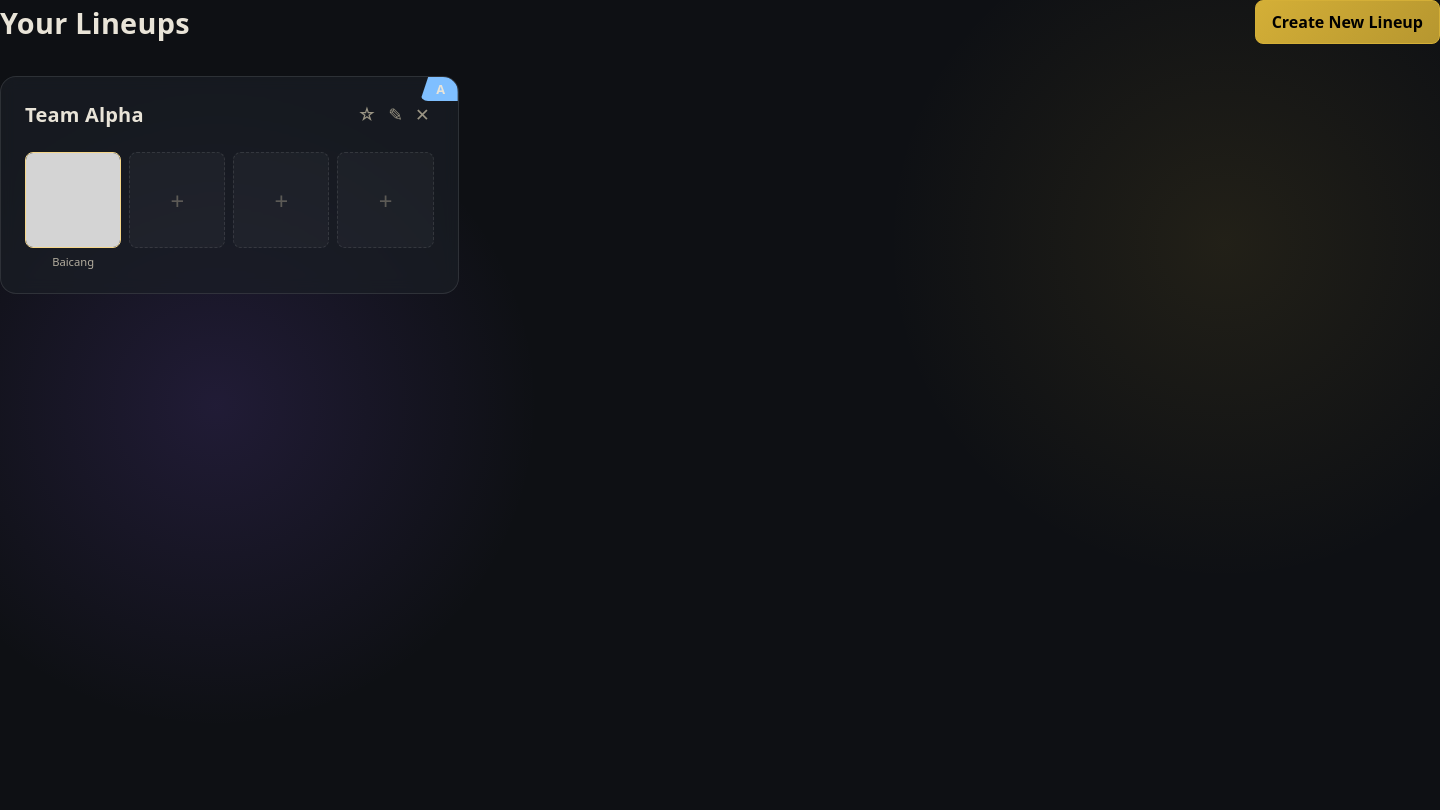
Test case: PartiesTab (N2E config wiring) › uses the Lineup noun, N2E copy, and the tier selector
The width and height of the screenshot is (1440, 810).
Expected: the heading "Your Lineups" is shown, [0,2,190,42]
What coordinates should you click on to do the following:
click the button "Create New Lineup"
I would click on:
 (1347, 22)
Its box is [1255,0,1439,44].
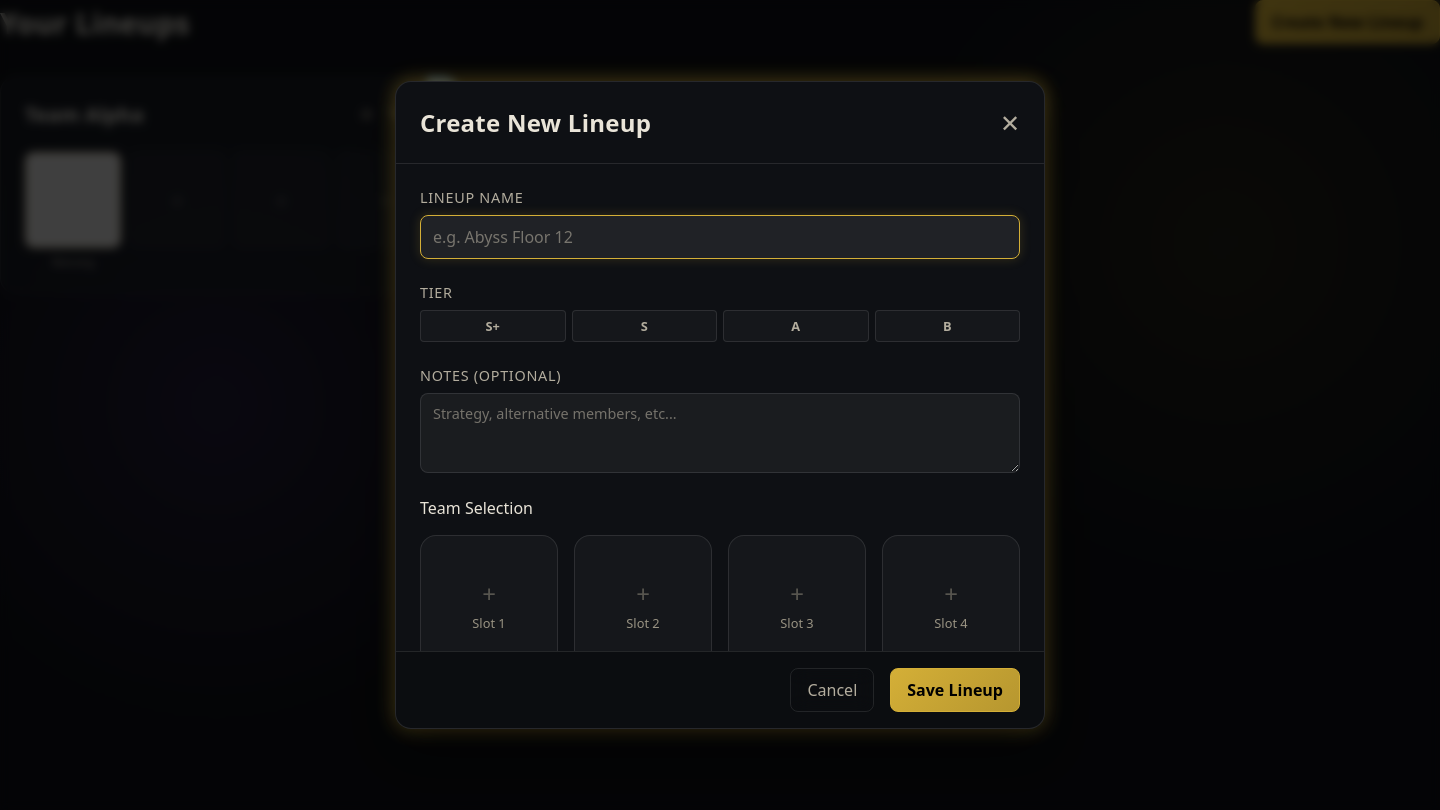
Expected: the field with placeholder "e.g. Abyss Floor 12" is shown, [420,215,1020,259]
Expected: the text "Tier" is shown, [420,283,453,302]
